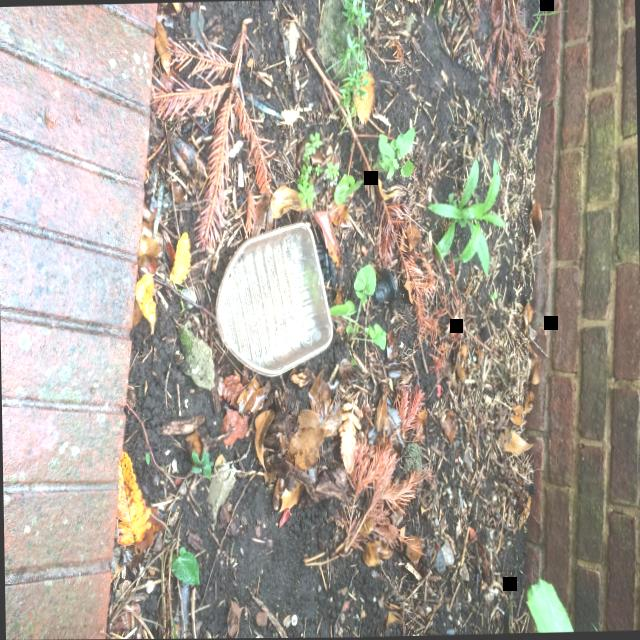Disposable food container: (215, 221, 333, 375)
Other plastic bottle: (371, 268, 397, 305), (315, 241, 333, 284)
Plastic film: (246, 93, 283, 119), (152, 182, 164, 238)
